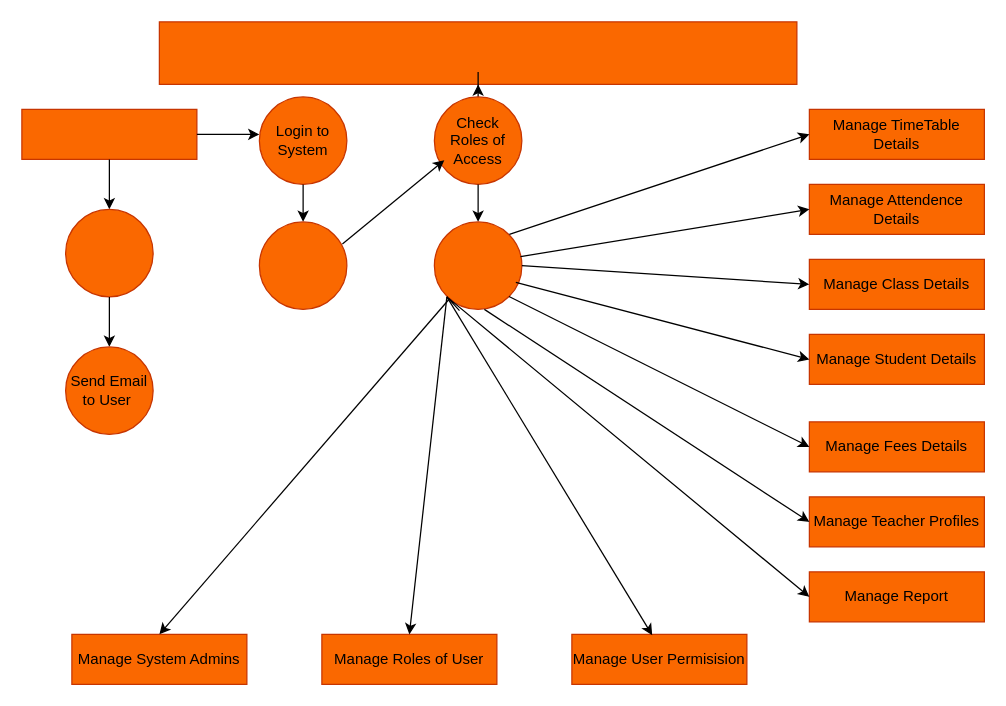
This 1006x706 diagram has some shape labels left out. The shapes that lost their labels are listed below. From the top down, each one's centre as x and y in pixels, then its label:
At (477,52): "Student Information System".
At (109,133): "Admin".
At (108,252): "Forgot password".
At (302,265): "Check Credentials".
At (477,265): "Manage Modules".
